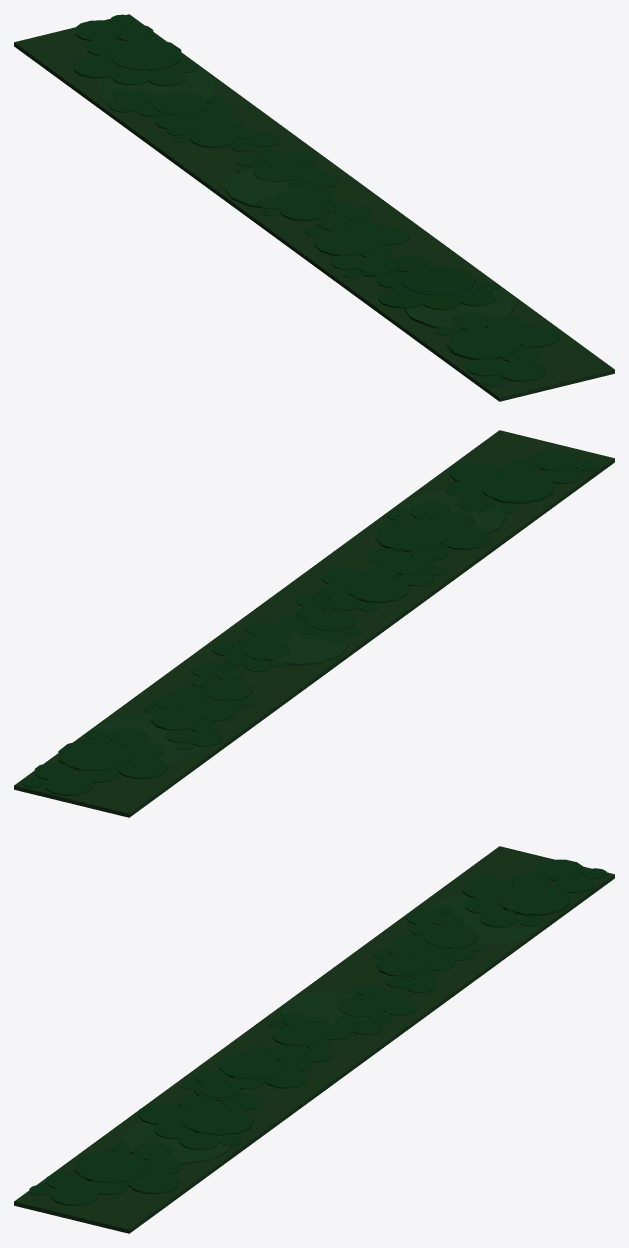
The model's file is walkway.FBX.
3 views of the same model, one above another, from view 1: azimuth 30°, elevation 25°; view 2: azimuth 150°, elevation 25°; view 3: azimuth 330°, elevation 25° (orthographic).
Visible parts, largest first — view 1: Box002; view 2: Box002; view 3: Box002.
Part boxes in pixels (box(x1,y1,x2,y2)): Box002: box(14, 14, 614, 401); Box002: box(14, 430, 614, 817); Box002: box(14, 846, 614, 1233).
Bounding box in the file's own units: 11.33 × 0.8795 × 82.61.
